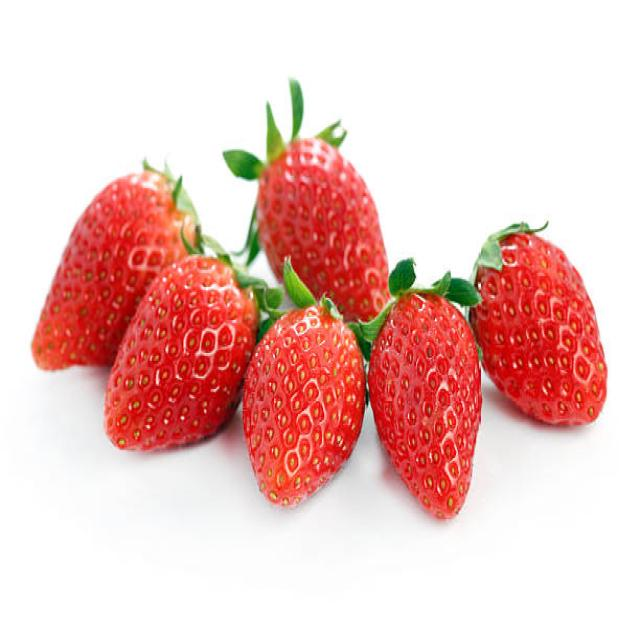Healthy Fruit: (32, 170, 197, 375), (104, 254, 260, 453), (471, 231, 609, 425), (242, 300, 365, 507), (368, 295, 481, 517), (258, 138, 392, 321)
